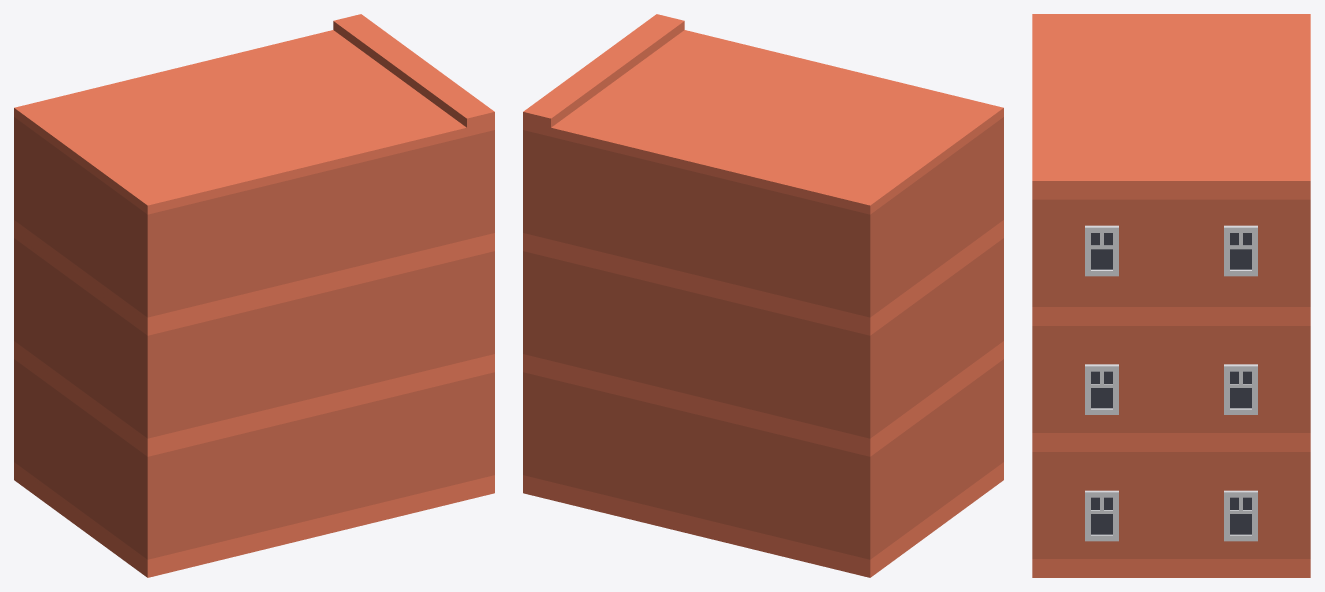
Rendered from morceauImmeuble.fbx.
The picture shows the model from 3 angles, left to right: view 1: azimuth 30°, elevation 25°; view 2: azimuth 150°, elevation 25°; view 3: azimuth 270°, elevation 25°; orthographic projection. The views are drawn at different scales.
Parts seen in each view (by area): view 1: block_56, block_58, block_57, roof_flat_largeSide_52, roof_flat_largeSide_70, block_55, block_53, block_54, block_49, block_50, block_51, roof_flat_largeCenter_59 (+4 smaller); view 2: block_62, block_68, block_63, roof_flat_largeSide_70, roof_flat_largeSide_52, block_67, block_61, block_64, block_60, block_65, block_66, roof_flat_largeCenter_69 (+4 smaller); view 3: roof_flat_largeSide_52, roof_flat_largeSide_70, block_51, block_66, block_49, block_50, block_60, block_65, roof_flat_largeCenter_59, roof_flat_largeCenter_69, window_detail_77, window_detail_78 (+4 smaller).
Boxes of the visible parts, x1,y1,x2,y2 form: block_56: (81, 408, 263, 577); block_58: (81, 166, 263, 335); block_57: (81, 287, 263, 456); roof_flat_largeSide_52: (197, 63, 494, 186); roof_flat_largeSide_70: (130, 14, 427, 128); block_55: (263, 158, 379, 307); block_53: (263, 400, 379, 549); block_54: (263, 279, 379, 428); block_49: (379, 372, 494, 521); block_50: (379, 251, 494, 400); block_51: (379, 130, 494, 278); roof_flat_largeCenter_59: (81, 128, 263, 214); block_62: (754, 408, 936, 577); block_68: (754, 166, 936, 335); block_63: (754, 287, 936, 456); roof_flat_largeSide_70: (523, 63, 820, 186); roof_flat_largeSide_52: (590, 14, 887, 128); block_67: (638, 158, 754, 307); block_61: (638, 400, 754, 549); block_64: (638, 279, 754, 428); block_60: (523, 372, 638, 521); block_65: (523, 251, 638, 400); block_66: (523, 130, 638, 278); roof_flat_largeCenter_69: (754, 128, 936, 214); roof_flat_largeSide_52: (1032, 72, 1171, 199); roof_flat_largeSide_70: (1171, 72, 1310, 199); block_51: (1032, 199, 1171, 325); block_66: (1171, 199, 1310, 325); block_49: (1032, 452, 1171, 577); block_50: (1032, 326, 1171, 451); block_60: (1171, 452, 1310, 577); block_65: (1171, 326, 1310, 451); roof_flat_largeCenter_59: (1032, 14, 1171, 72); roof_flat_largeCenter_69: (1171, 14, 1310, 72); window_detail_77: (1224, 225, 1257, 276); window_detail_78: (1085, 225, 1118, 276).
Size of the model in its own units: 30.3 by 31.5 by 20.
